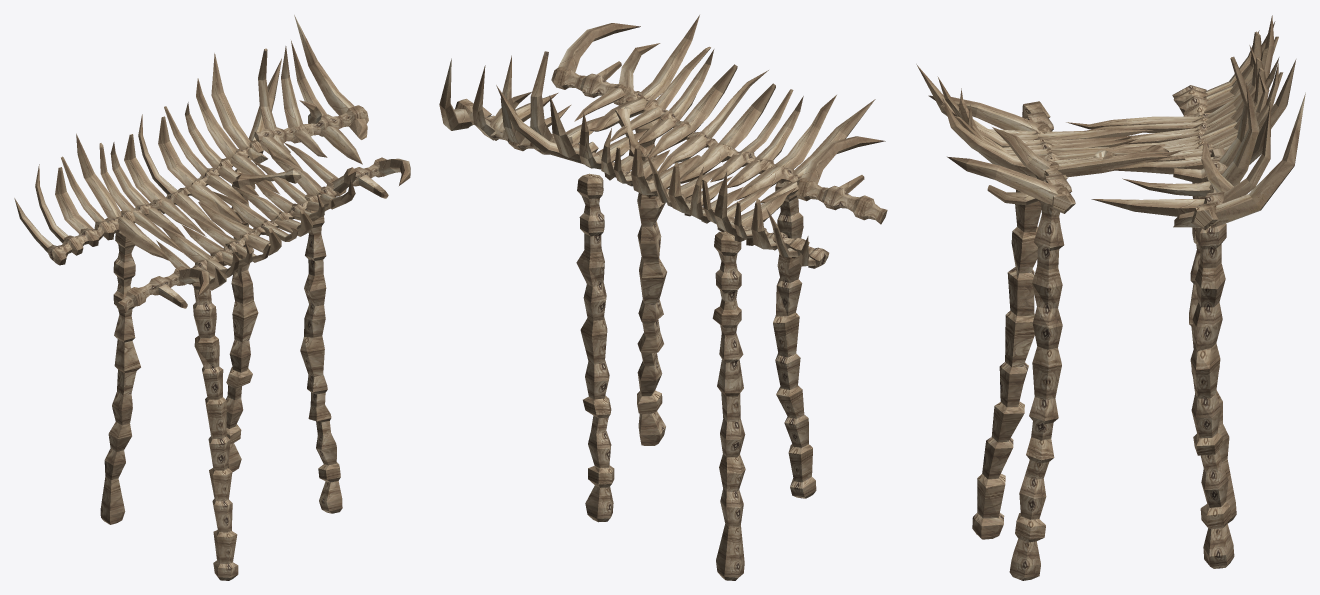
File: Item_5007_gutou_gulu001.FBX
3 views of the same model, side by side, from view 1: azimuth 30°, elevation 25°; view 2: azimuth 150°, elevation 25°; view 3: azimuth 270°, elevation 25° (orthographic). The views are drawn at different scales.
Parts seen in each view (by area): view 1: Item_5007_gutou_gulu001; view 2: Item_5007_gutou_gulu001; view 3: Item_5007_gutou_gulu001.
Part boxes in pixels (x1,y1,x2,y2): Item_5007_gutou_gulu001: (14,15,410,580); Item_5007_gutou_gulu001: (439,15,887,580); Item_5007_gutou_gulu001: (916,15,1305,580).
Size of the model in its own units: 1203 by 1504 by 934.
